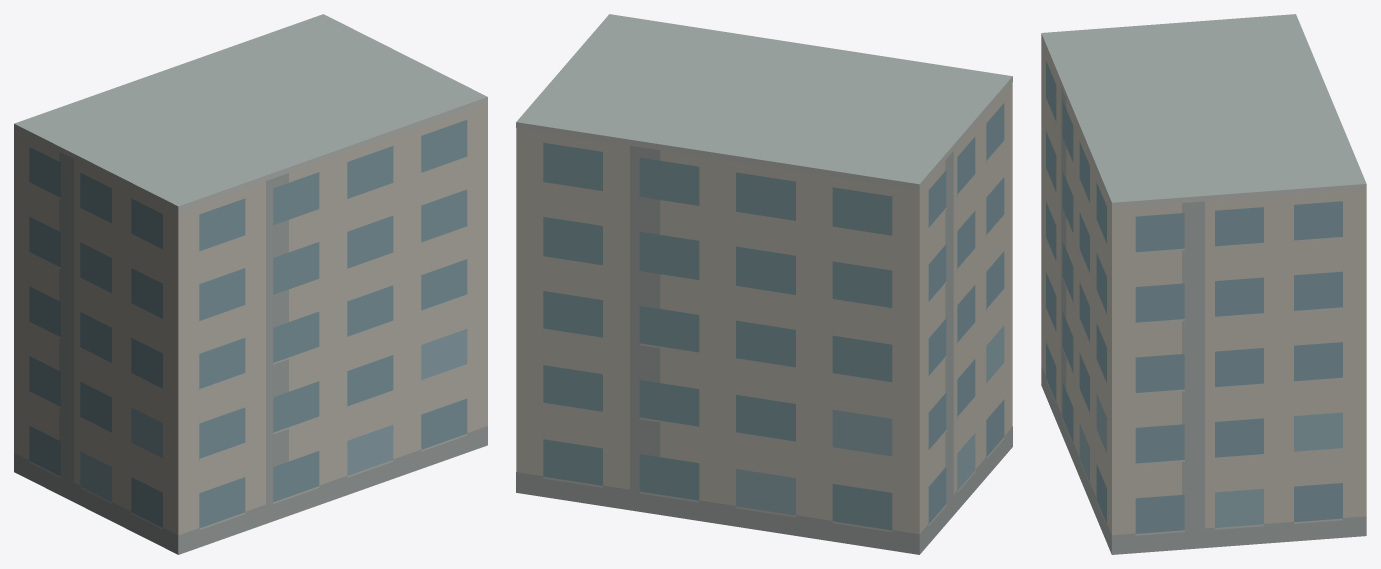
The model's file is residential-6855dd5a-1e09-4ac5-aca3-9f723d5b471f.glb.
The picture shows the model from 3 angles, left to right: view 1: azimuth 30°, elevation 25°; view 2: azimuth 150°, elevation 25°; view 3: azimuth 270°, elevation 25°; orthographic projection. The views are drawn at different scales.
Visible parts, largest first — view 1: residential-6855dd5a-1e09-4ac5-aca3-9f723d5b471f.tmp; view 2: residential-6855dd5a-1e09-4ac5-aca3-9f723d5b471f.tmp; view 3: residential-6855dd5a-1e09-4ac5-aca3-9f723d5b471f.tmp.
Boxes of the visible parts, left/top/right/bottom form: residential-6855dd5a-1e09-4ac5-aca3-9f723d5b471f.tmp: left=14, top=14, right=487, bottom=554; residential-6855dd5a-1e09-4ac5-aca3-9f723d5b471f.tmp: left=516, top=14, right=1012, bottom=554; residential-6855dd5a-1e09-4ac5-aca3-9f723d5b471f.tmp: left=1041, top=14, right=1366, bottom=554.
Bounding box in the file's own units: 17.54 × 15.25 × 12.78.
